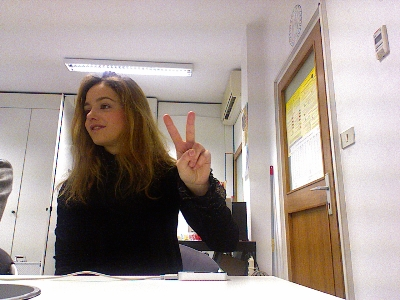剪刀: (162, 109, 212, 186)
